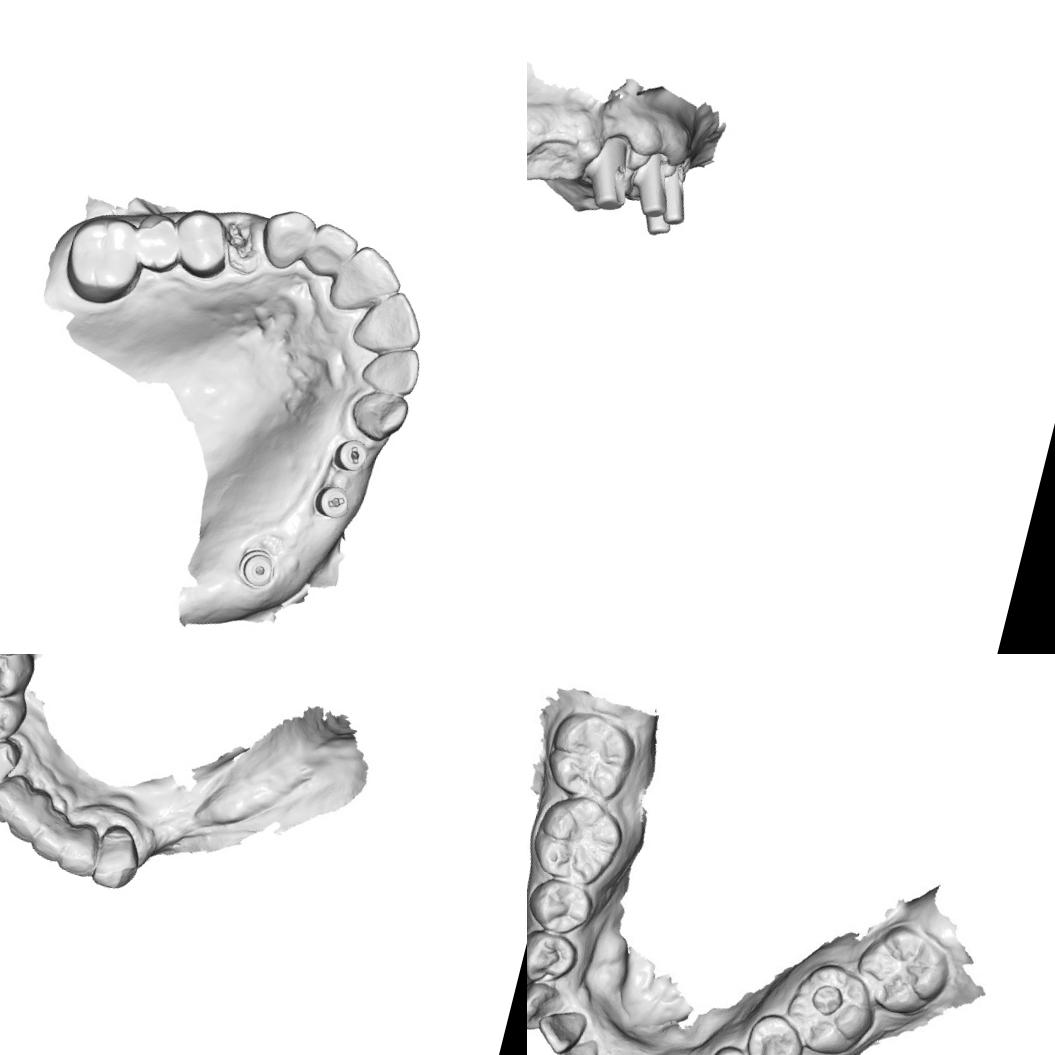abutment: (574, 124, 649, 216), (628, 146, 680, 222), (652, 161, 696, 228), (639, 207, 675, 240)
canine: (86, 818, 147, 895), (255, 202, 318, 275), (344, 382, 412, 448), (527, 979, 563, 1036), (0, 729, 24, 802)
implant: (230, 539, 284, 596)
implant_minus: (324, 432, 375, 481), (306, 478, 358, 526)
incisor: (322, 237, 410, 324), (348, 282, 431, 364), (353, 335, 426, 400), (298, 218, 362, 285), (2, 781, 58, 847), (54, 816, 105, 880), (27, 804, 76, 865), (535, 1001, 586, 1054), (0, 765, 33, 829), (541, 1030, 600, 1055)
molar: (55, 204, 154, 314), (542, 708, 645, 805), (530, 791, 628, 890), (854, 918, 950, 1014), (785, 960, 875, 1055), (123, 206, 186, 276)
premolar: (163, 202, 238, 284), (527, 878, 594, 944), (527, 927, 581, 987), (742, 1010, 806, 1055), (0, 680, 31, 746), (0, 654, 38, 707), (695, 1040, 766, 1055)
